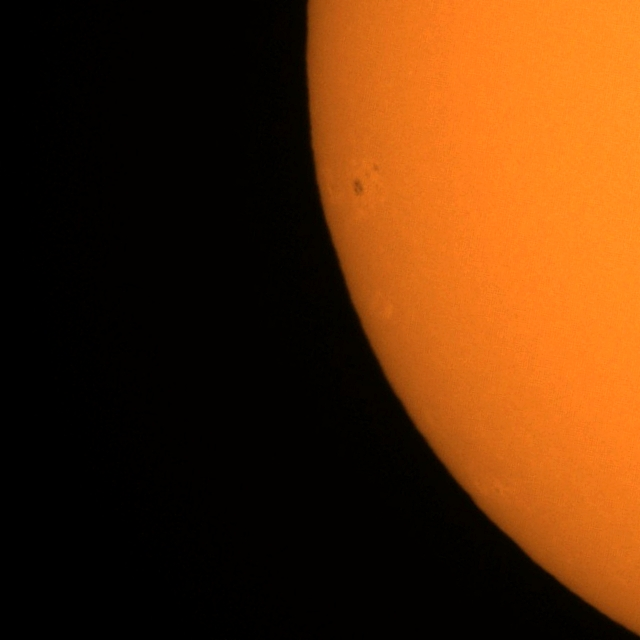sunspot: (352, 163, 382, 198)
